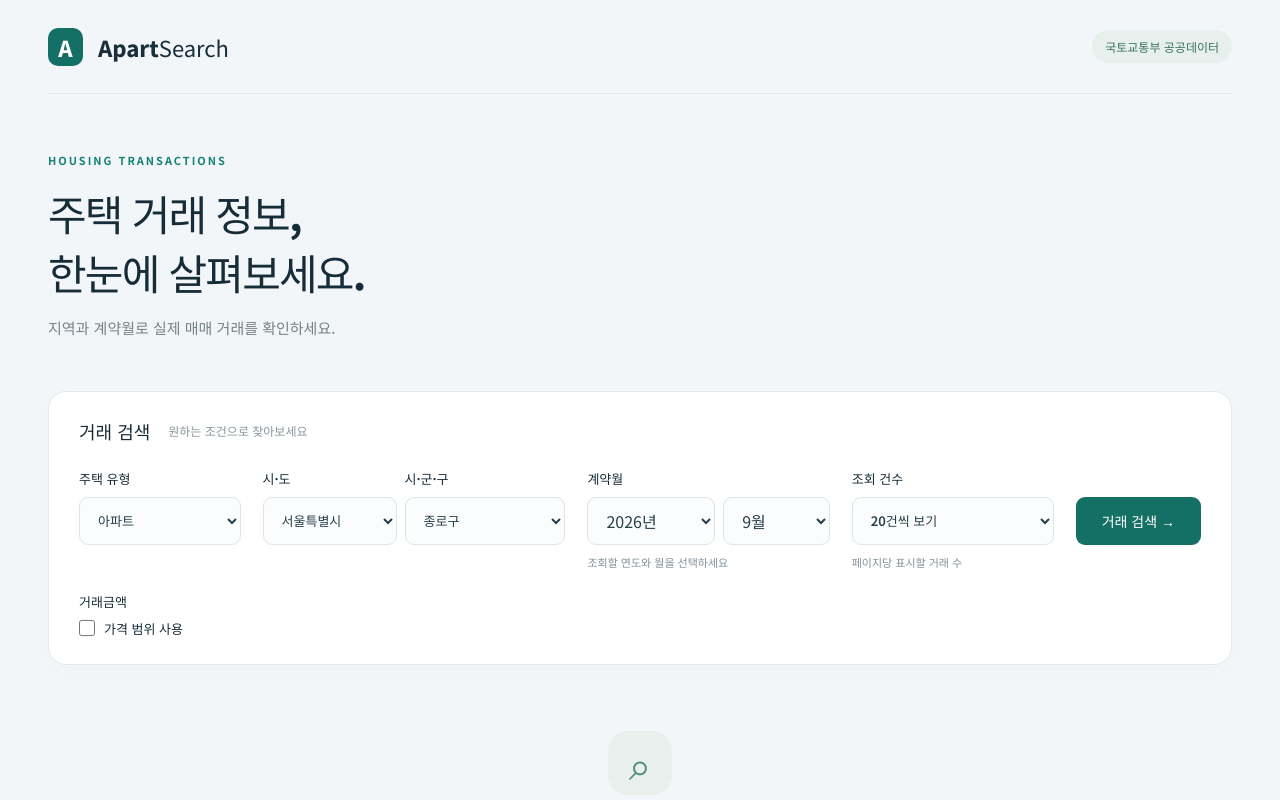
Test: uses response totals immediately and requests next, numbered and previous pages
Click the button "거래 검색 →" at coordinates (1138, 521), box top-left (1076, 497), bottom-right (1201, 545)
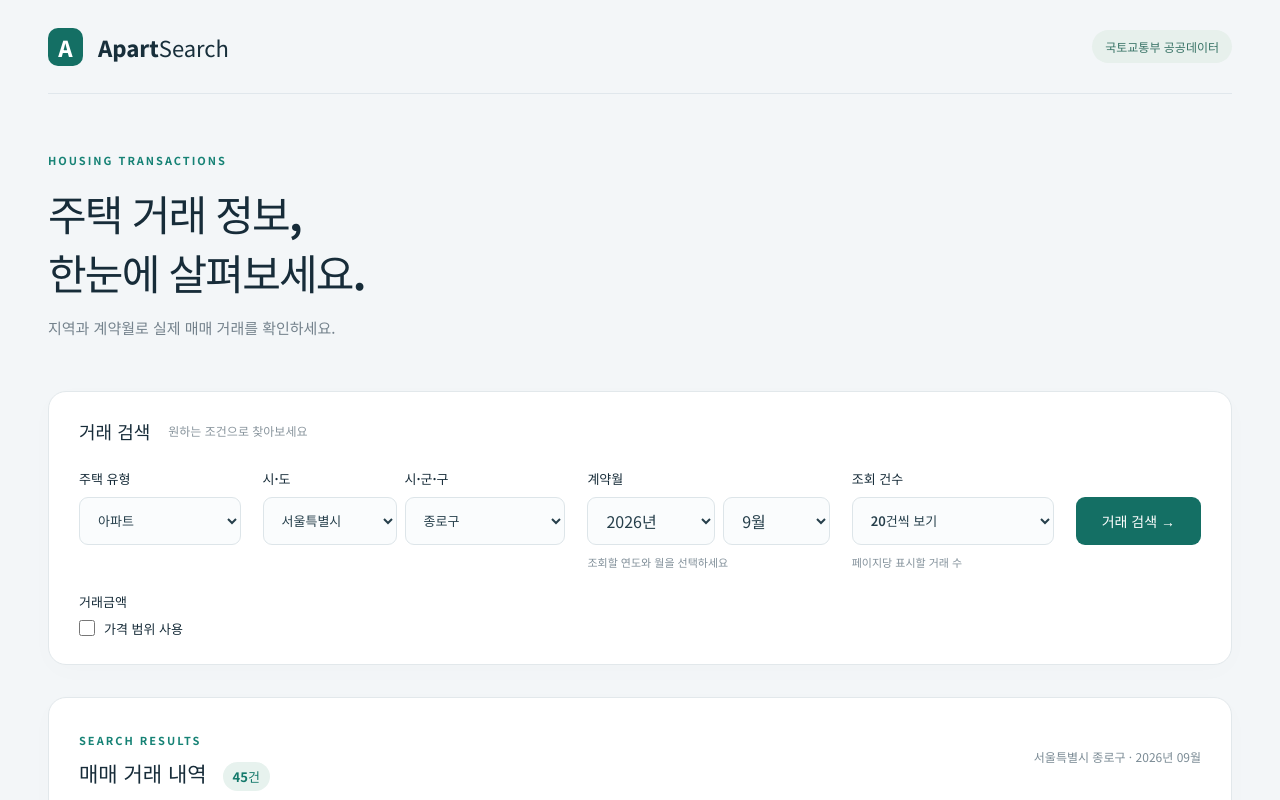
Select "강남구" in the dropdown labelled "시·군·구" at coordinates (485, 521), box top-left (405, 497), bottom-right (565, 545)
(page scrolled)
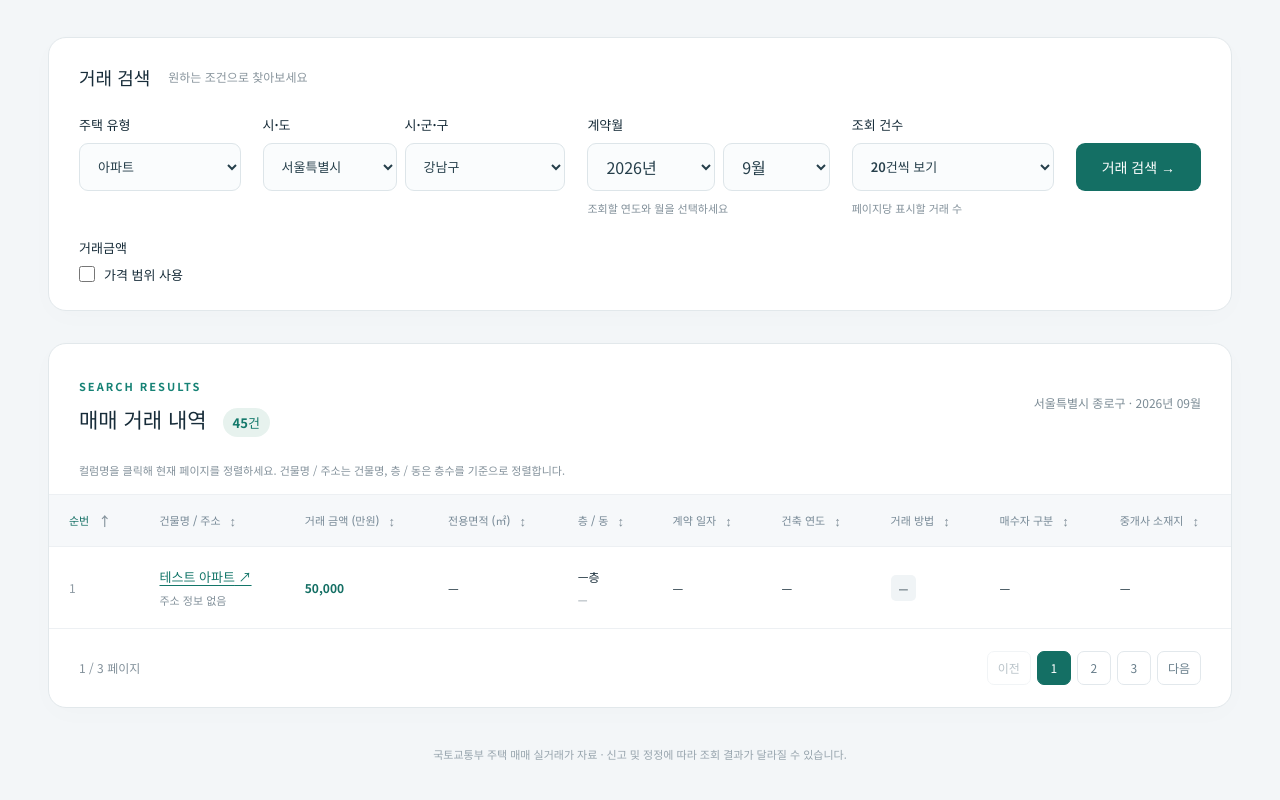
Click the button "다음" at coordinates (1179, 668), box top-left (1157, 651), bottom-right (1201, 685)
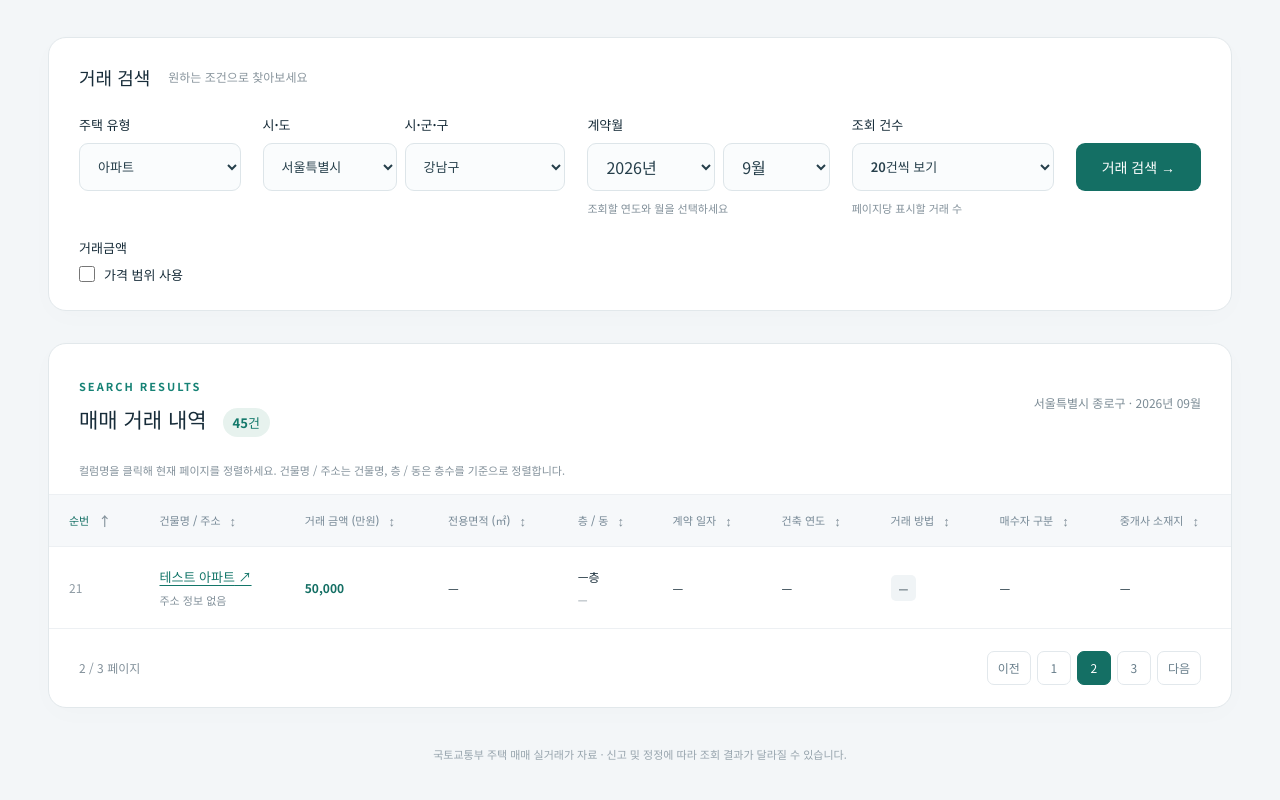
Now the text "2 / 3 페이지" is shown, box top-left (79, 659), bottom-right (140, 676)
Click the button "3" at coordinates (1134, 668), box top-left (1117, 651), bottom-right (1151, 685)
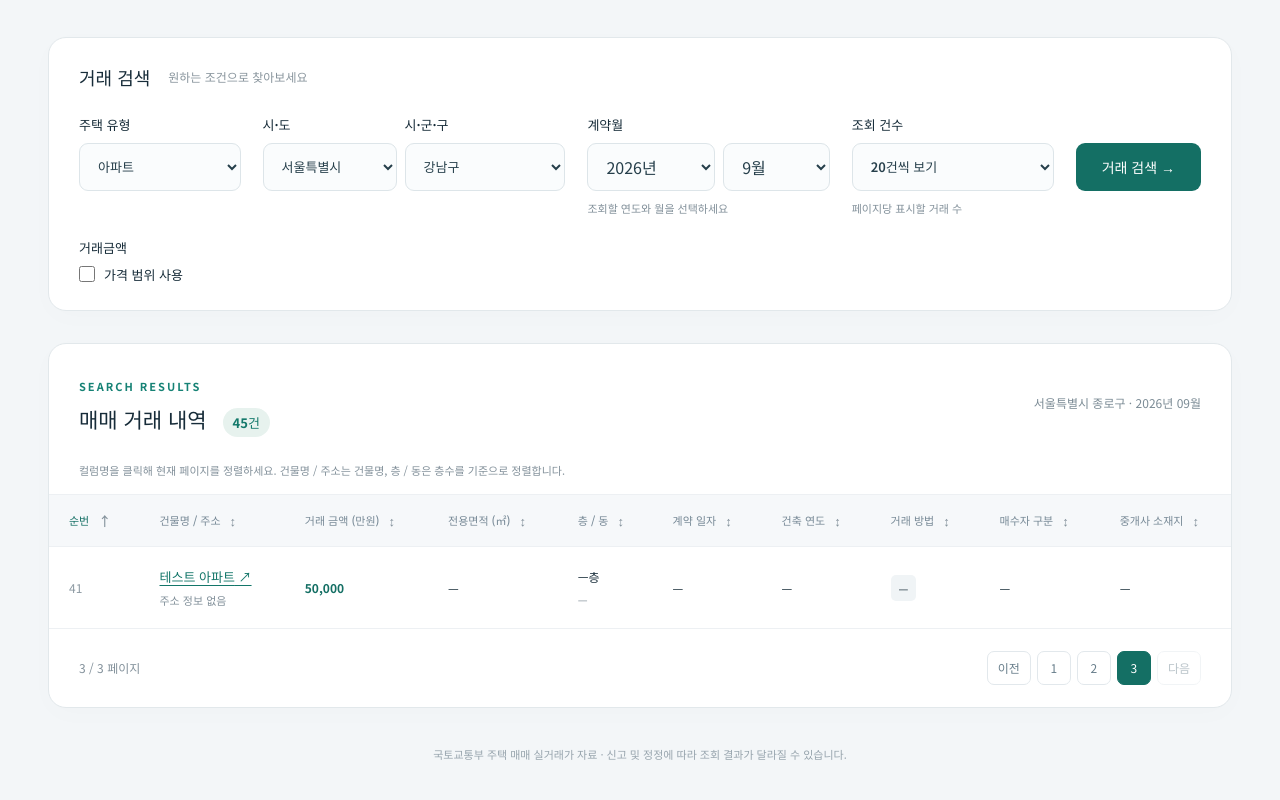
Now the text "3 / 3 페이지" is shown, box top-left (79, 659), bottom-right (140, 676)
Now the button "다음" is disabled, box top-left (1157, 651), bottom-right (1201, 685)
Click the button "이전" at coordinates (1009, 668), box top-left (987, 651), bottom-right (1031, 685)
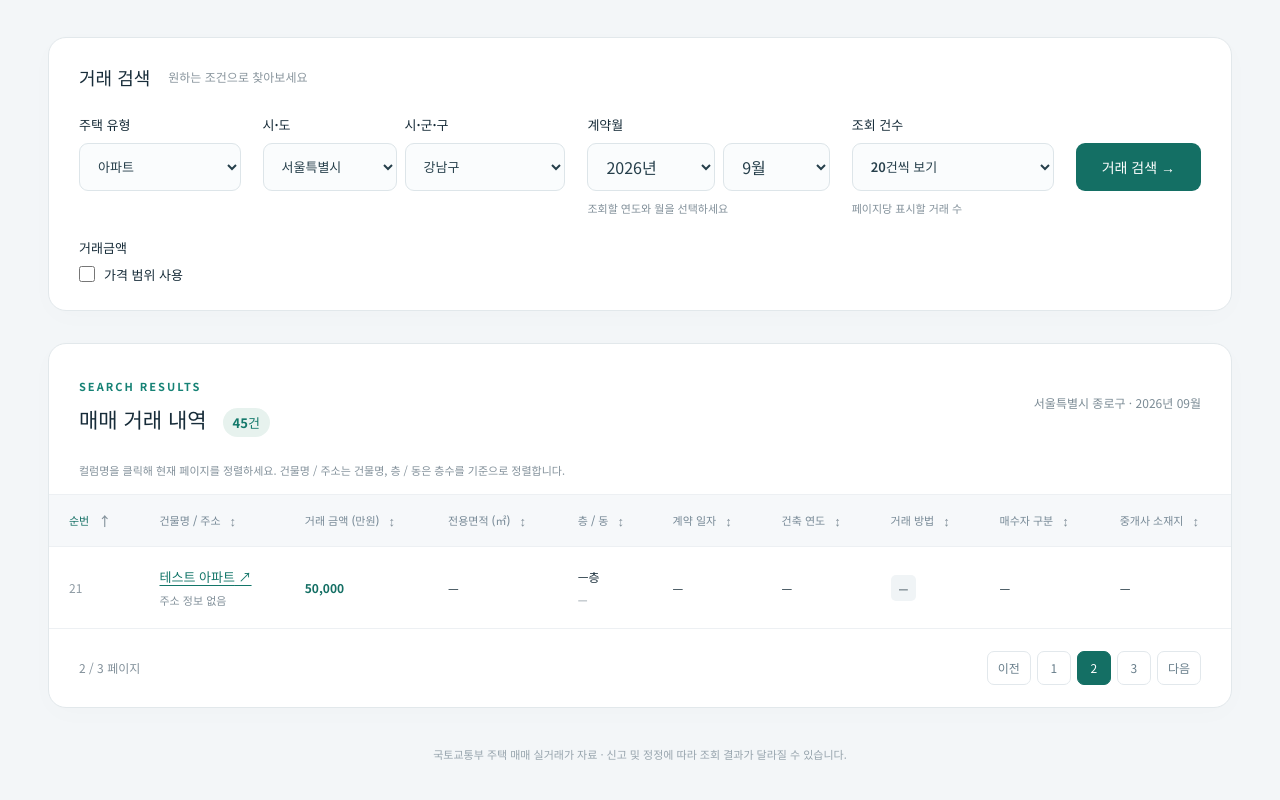
Now the text "2 / 3 페이지" is shown, box top-left (79, 659), bottom-right (140, 676)
